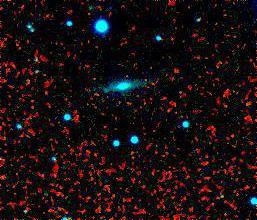star: (89, 77, 119, 107)
